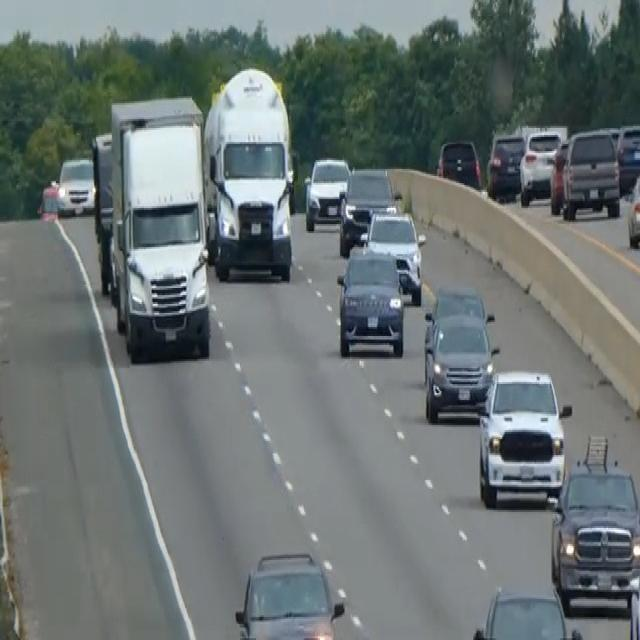car: (549, 436, 639, 614), (476, 366, 571, 508), (422, 283, 498, 423), (233, 548, 345, 638), (336, 244, 405, 358), (550, 127, 622, 220), (470, 582, 584, 638), (360, 206, 425, 302), (338, 164, 397, 254), (303, 153, 351, 231), (519, 126, 563, 204), (486, 130, 525, 199), (436, 135, 481, 190), (55, 155, 94, 217), (548, 137, 570, 213), (616, 121, 639, 192), (625, 169, 639, 249), (627, 560, 639, 638), (36, 180, 59, 220)
lorry: (106, 92, 212, 361), (203, 64, 296, 283)
truck: (89, 128, 114, 293)
